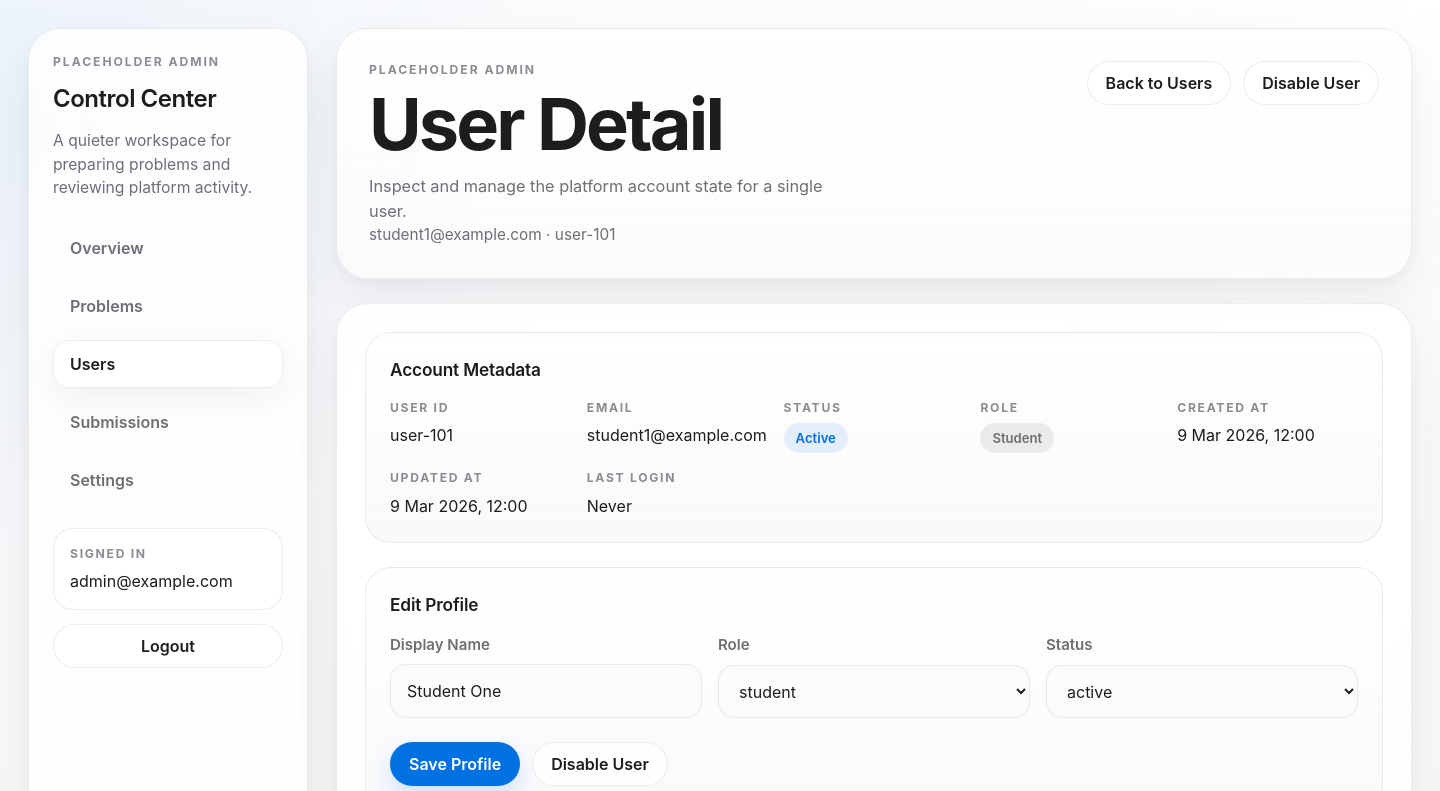
Scenario: user detail page › renders and saves the selected user profile
Replace the text in the field labelled "Display Name" with "Updated Student" at [546, 691], box [390,664,702,718]
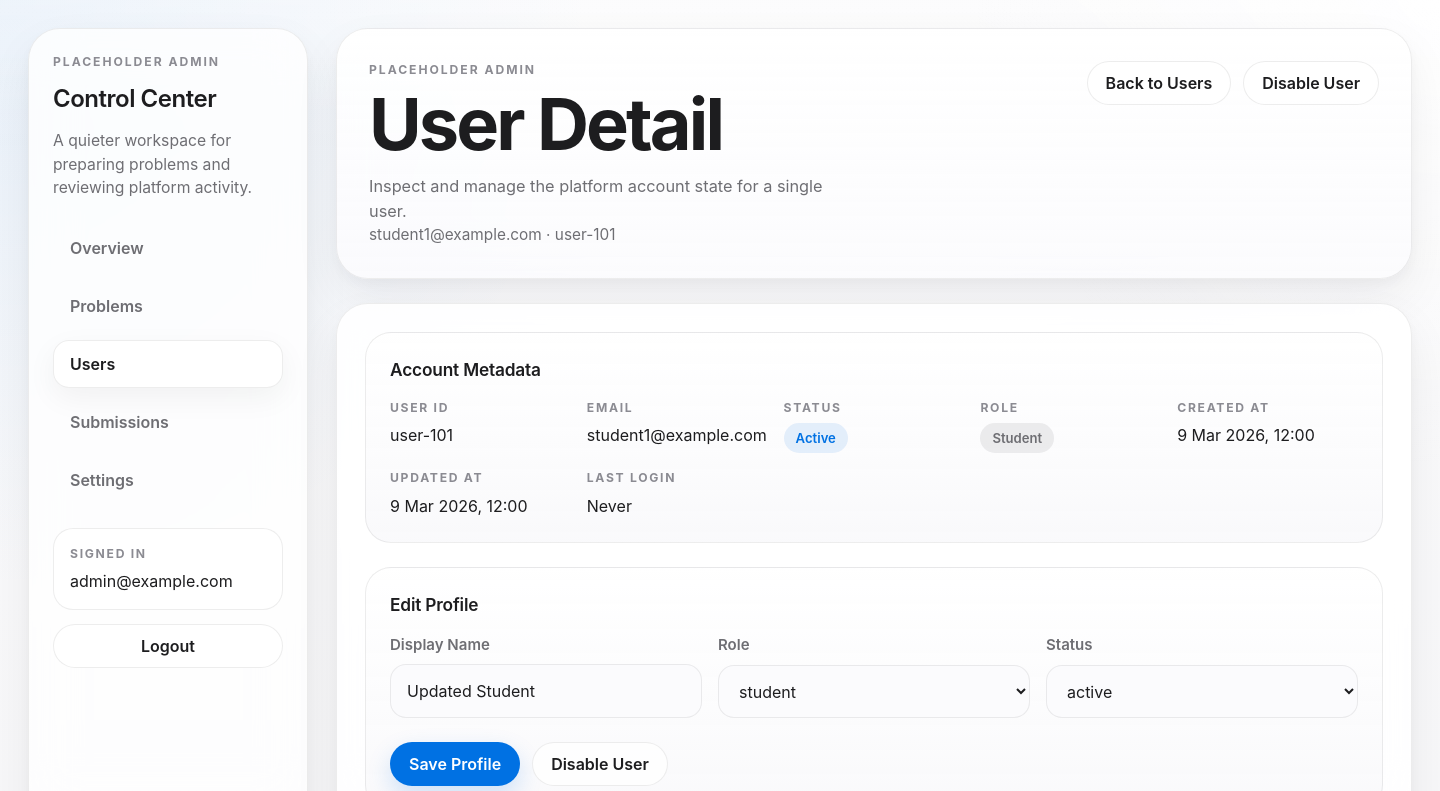
Select "admin" in the dropdown labelled "Role" at [874, 692], box [718,665,1030,718]
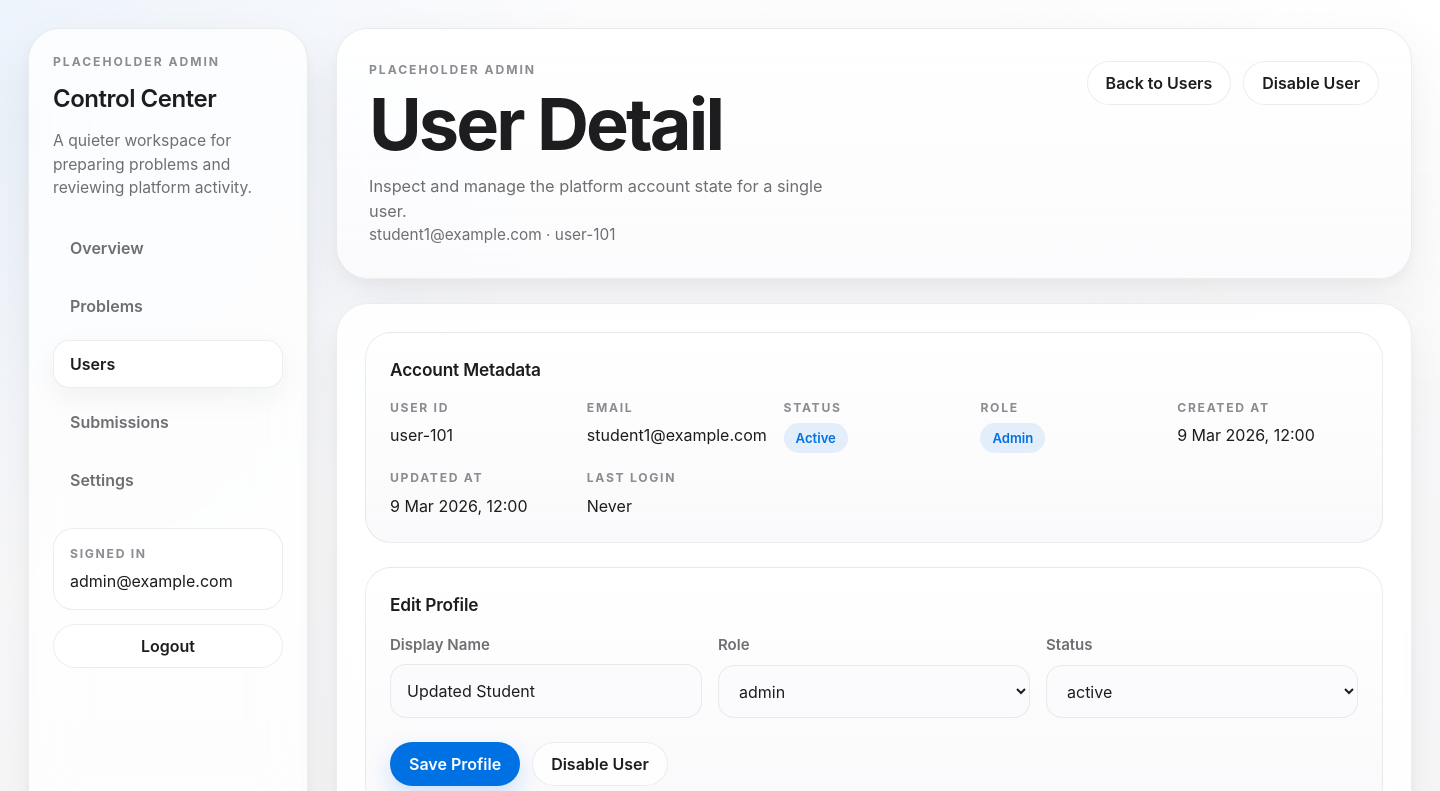
Select "disabled" in the dropdown labelled "Status" at [1202, 692], box [1046,665,1358,718]
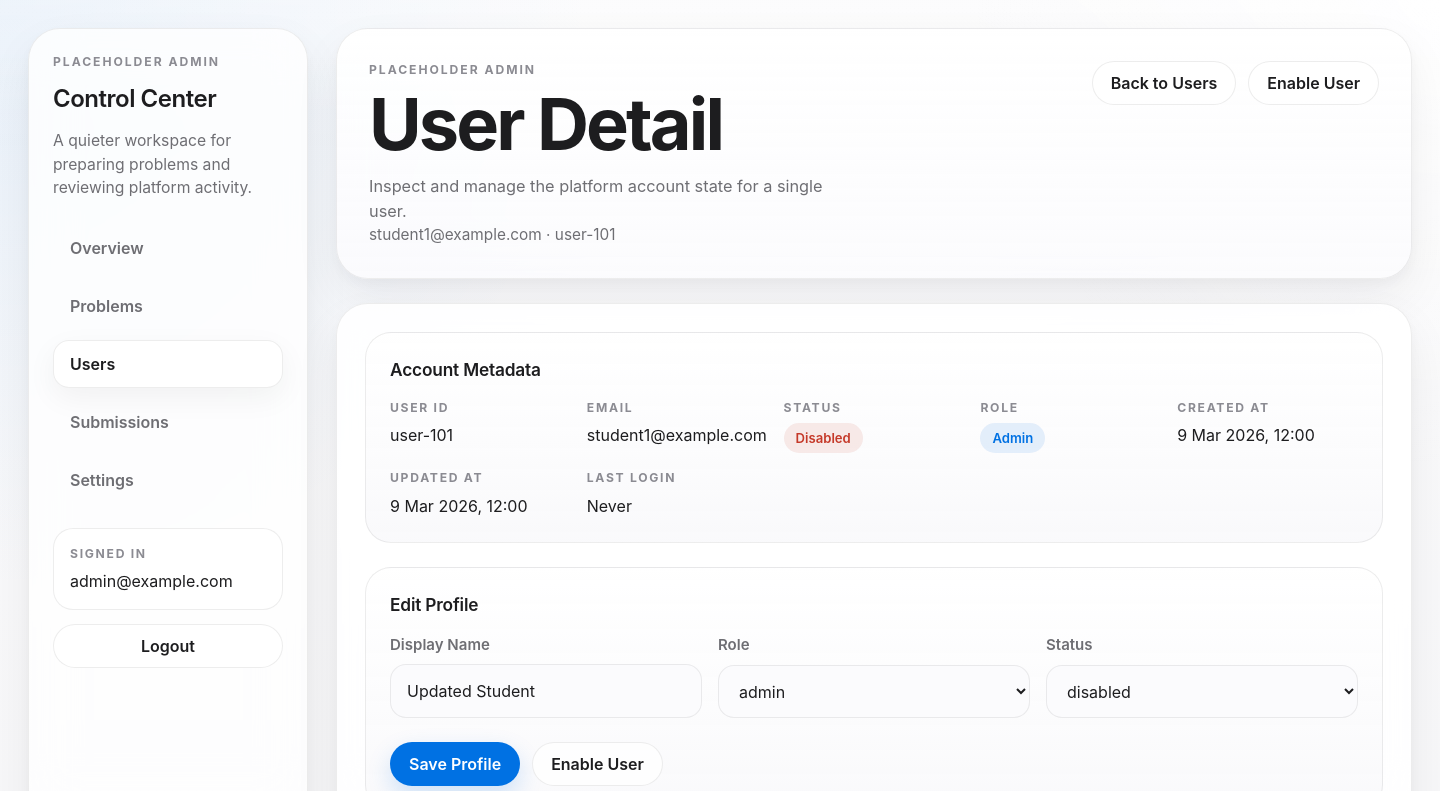
Click the button "Save Profile".
click(455, 764)  # box [390,742,520,786]
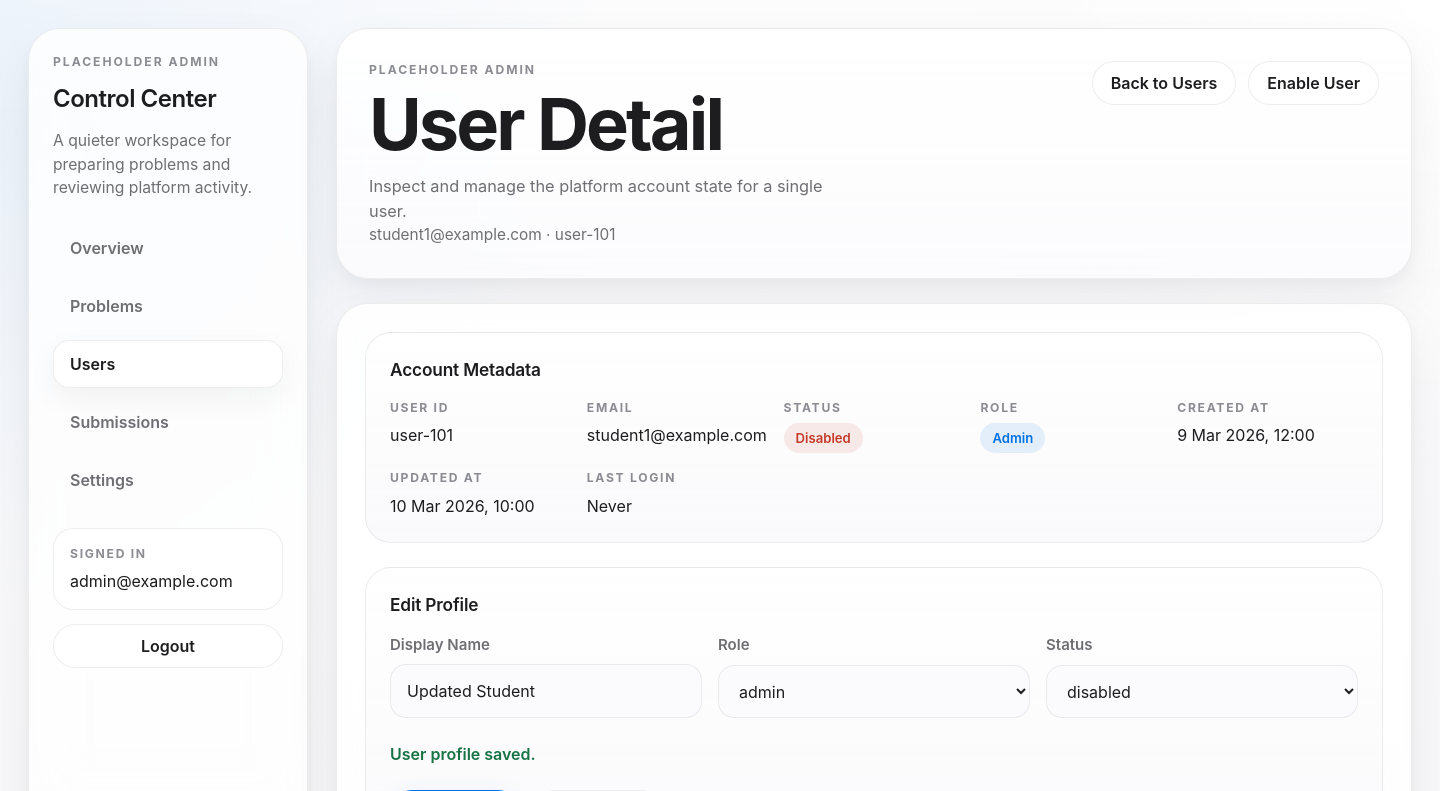
expect the text "User profile saved." is shown: met, box [390,744,536,764]
